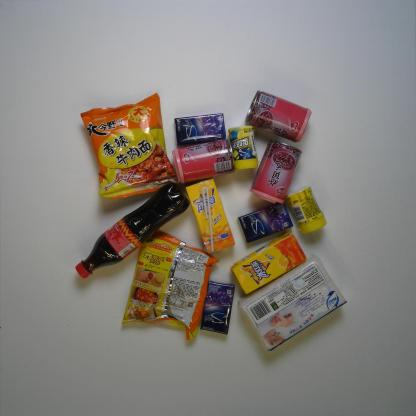Canned Food: (244, 89, 313, 143), (249, 140, 302, 206), (169, 138, 235, 185)
Drink: (74, 182, 190, 279), (229, 231, 308, 295), (185, 177, 236, 254)
Gum: (236, 201, 294, 244), (286, 184, 327, 235), (199, 280, 236, 336), (173, 112, 228, 146), (227, 124, 261, 170)
Instant Noodles: (120, 228, 221, 340), (79, 91, 180, 200)
Tissue: (235, 254, 348, 352)
